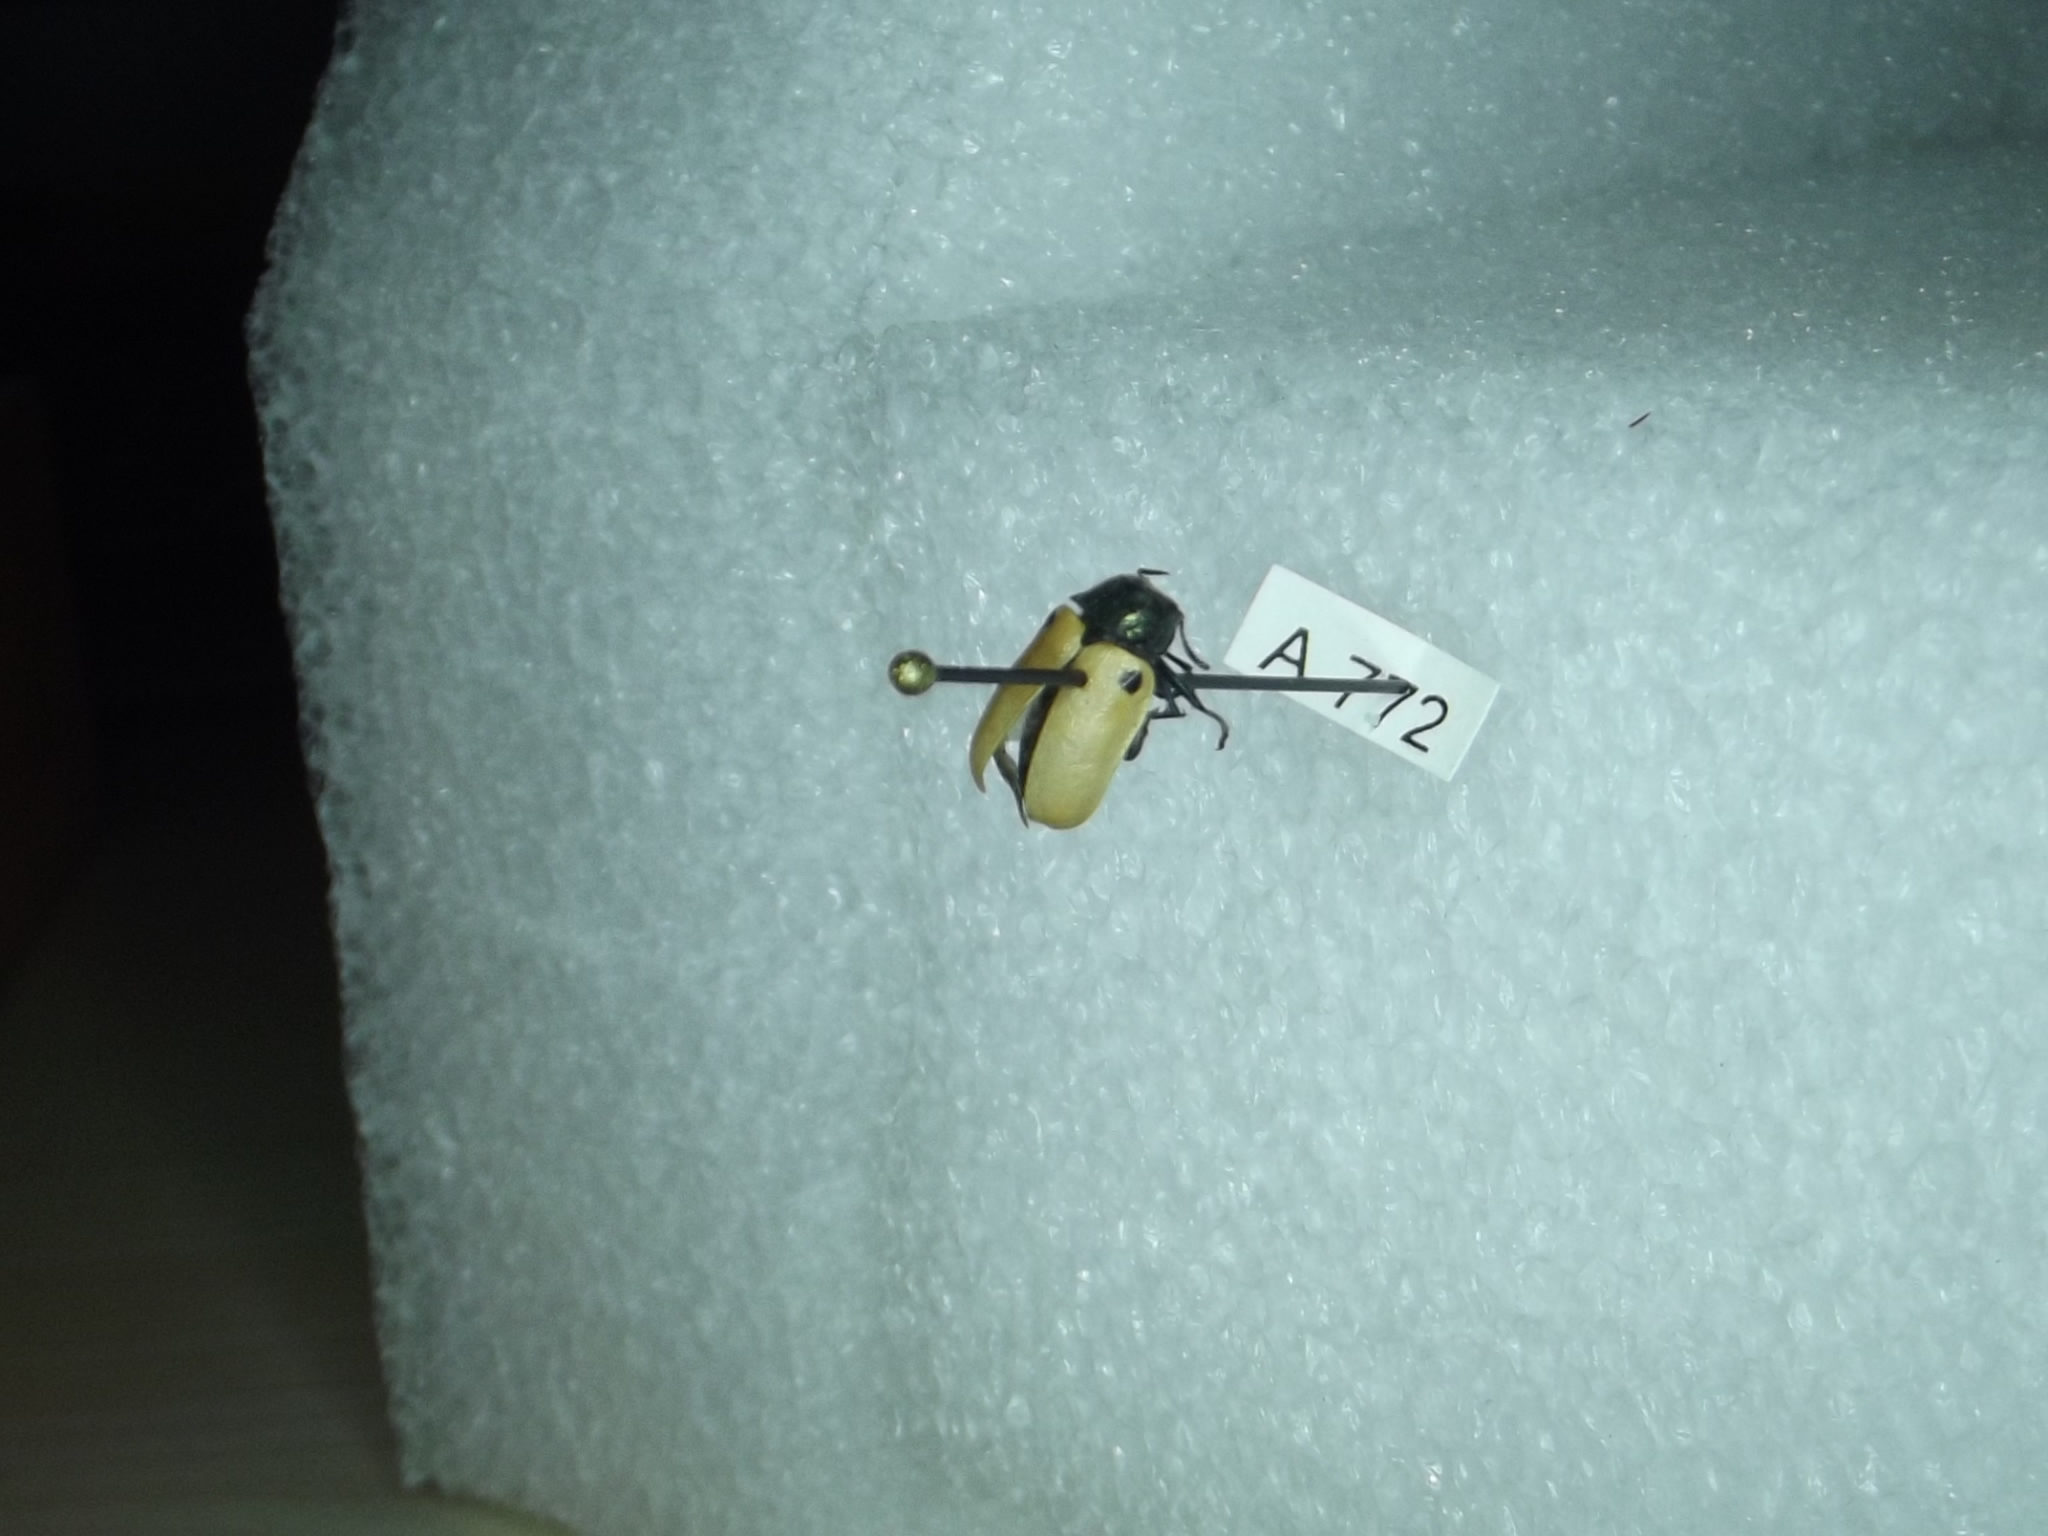Labidostomis_propinqua: (961, 558, 1238, 833)
